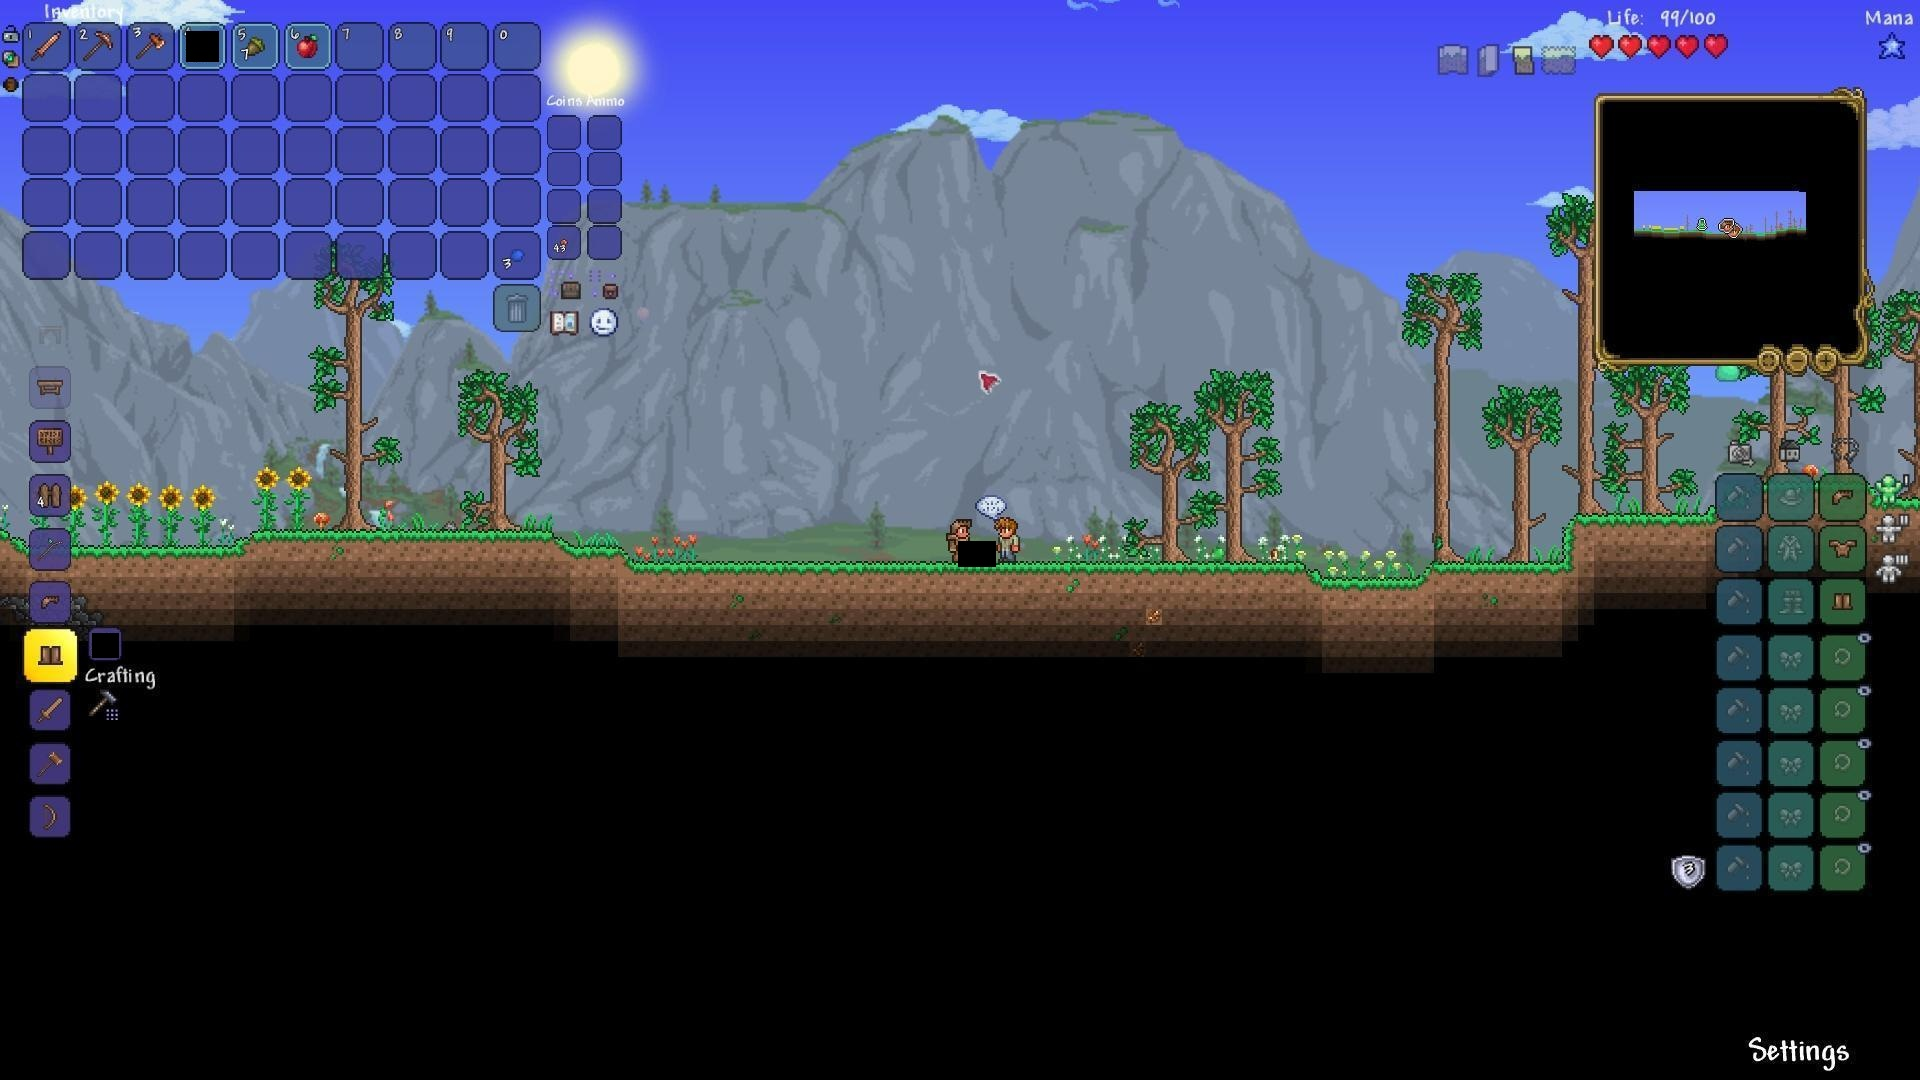breastplate: (1830, 537, 1859, 558)
helmet: (1829, 483, 1859, 512), (34, 588, 65, 616)
legs: (34, 640, 63, 669), (1832, 587, 1855, 616)
slime: (1716, 360, 1741, 388)
workbench: (29, 375, 66, 400)
